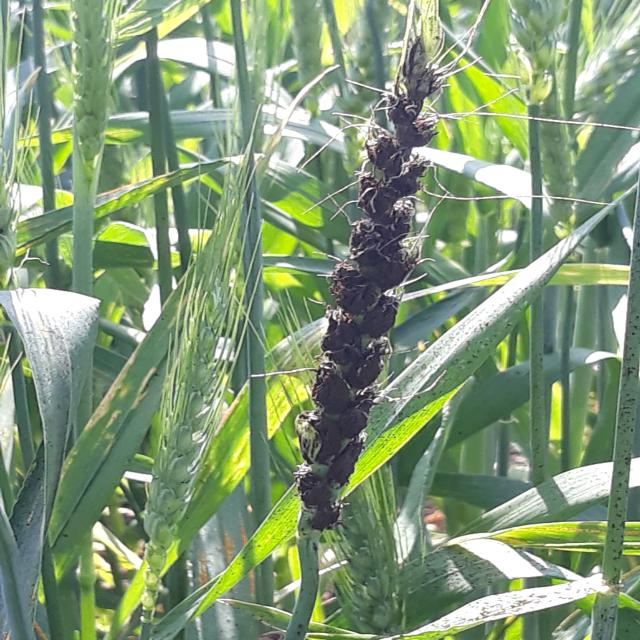loose_charred: (227, 8, 488, 640)
